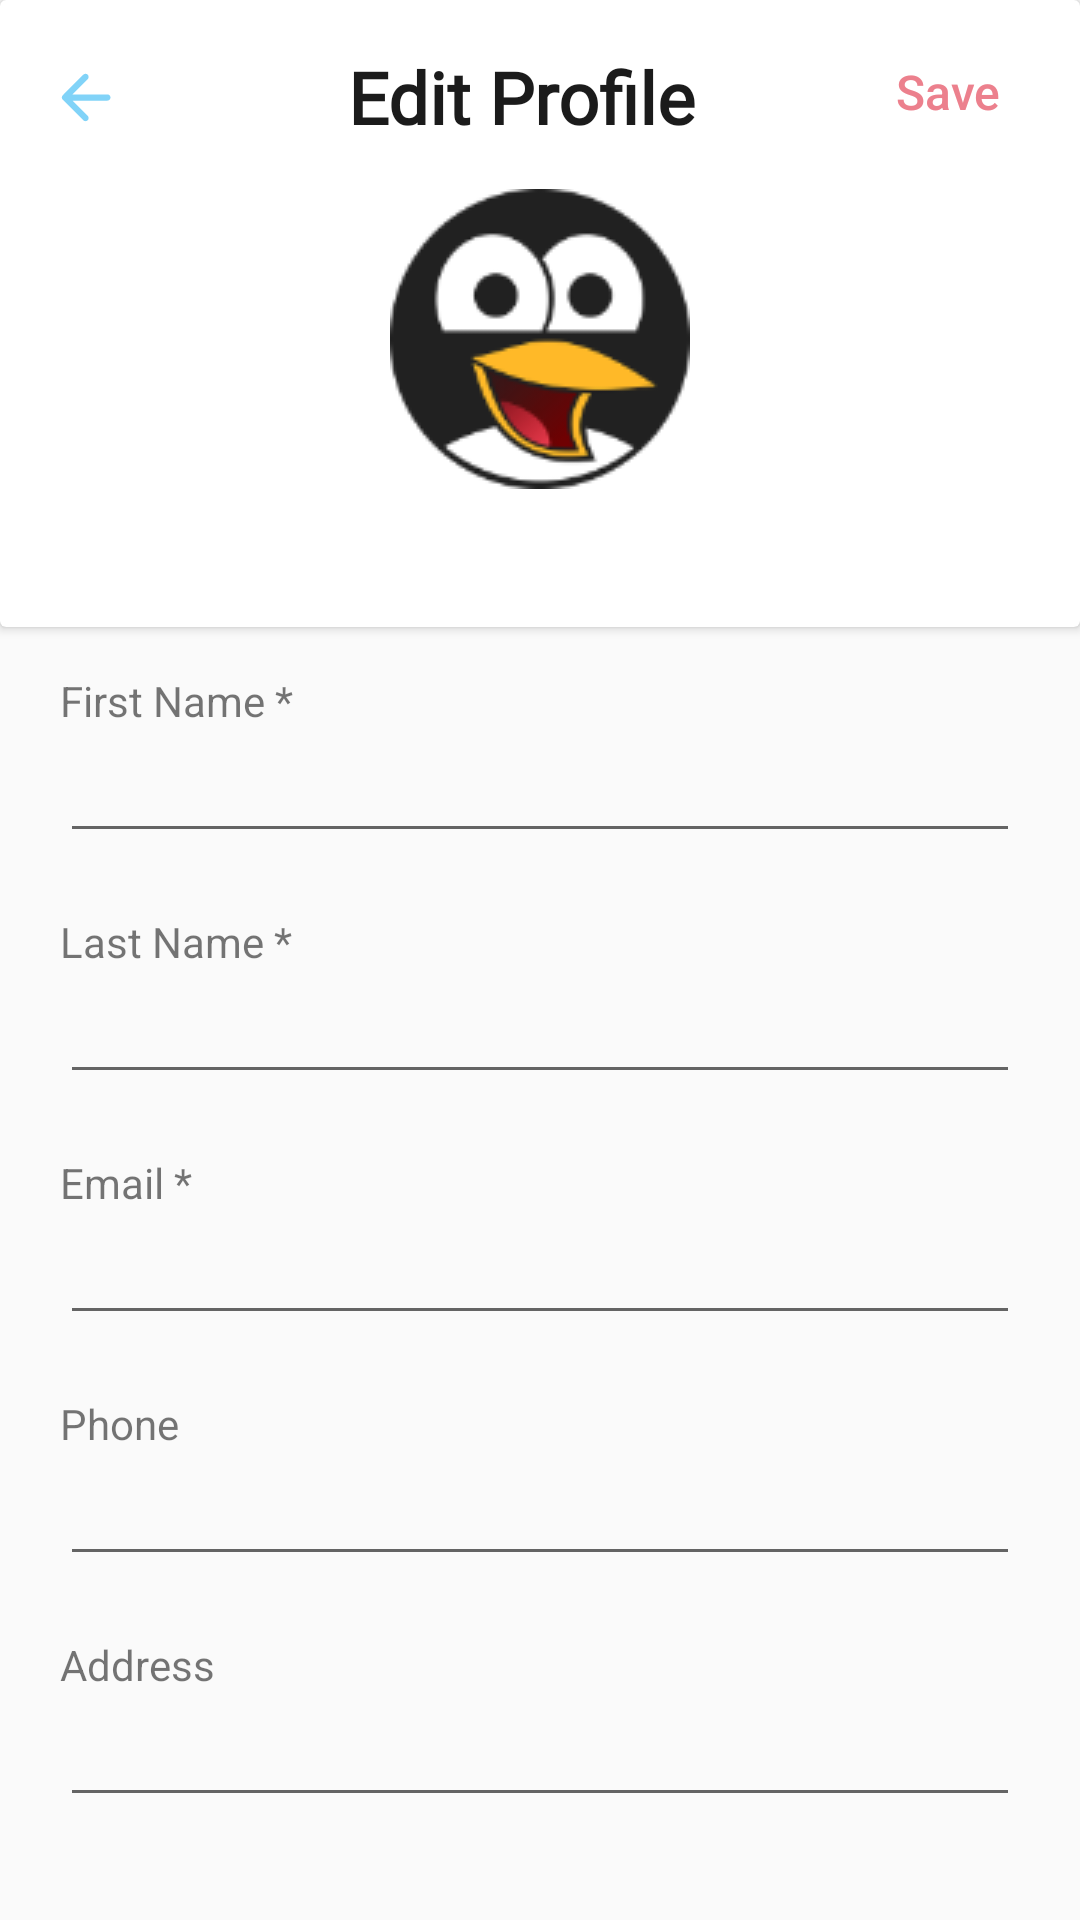

Named icons in this screenshot (1080x1920) and their bounding boxes, (left=x1, top=y1, right=x2, bottom=y2):
backarrowicon: (left=62, top=73, right=111, bottom=121)
